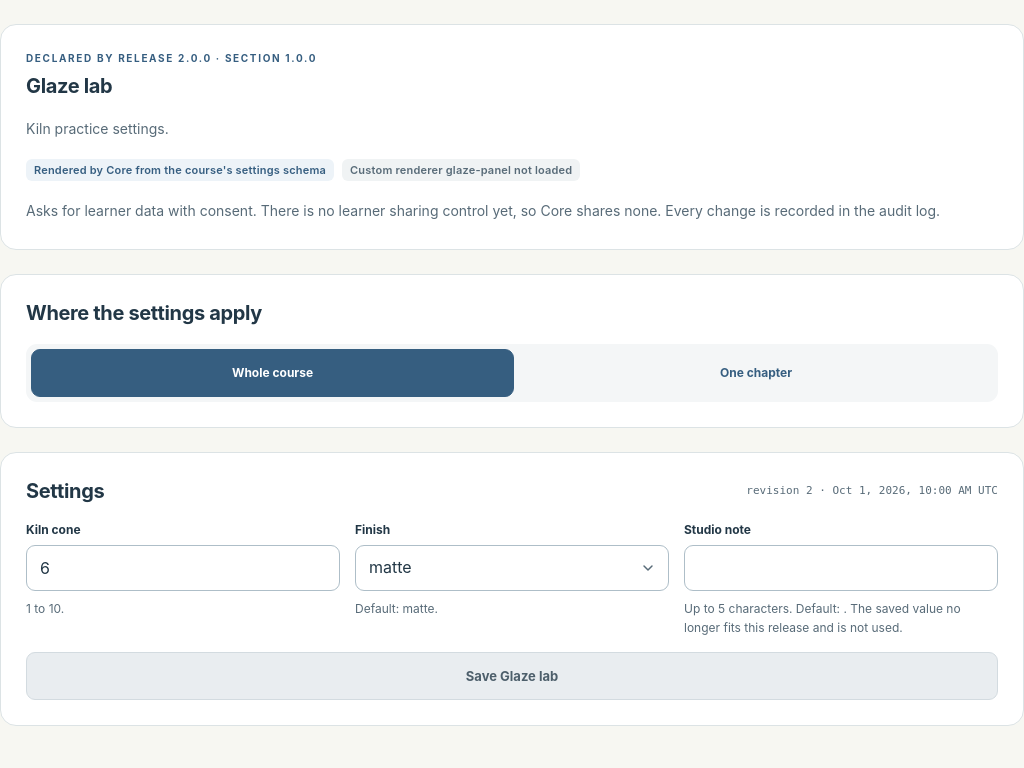
Test: course-declared admin sections › renders the schema as a form, explains what Core does not load or share, and saves only changed values
The width and height of the screenshot is (1024, 768).
Expected: the text "Kiln practice settings." is shown, x1=26 y1=120 x2=169 y2=136
Expected: the text "Custom renderer glaze-panel not loaded" is shown, x1=342 y1=159 x2=580 y2=181
Replace the text in the number field labelled "Kiln cone" with "11": (183, 568) x1=26 y1=544 x2=340 y2=590
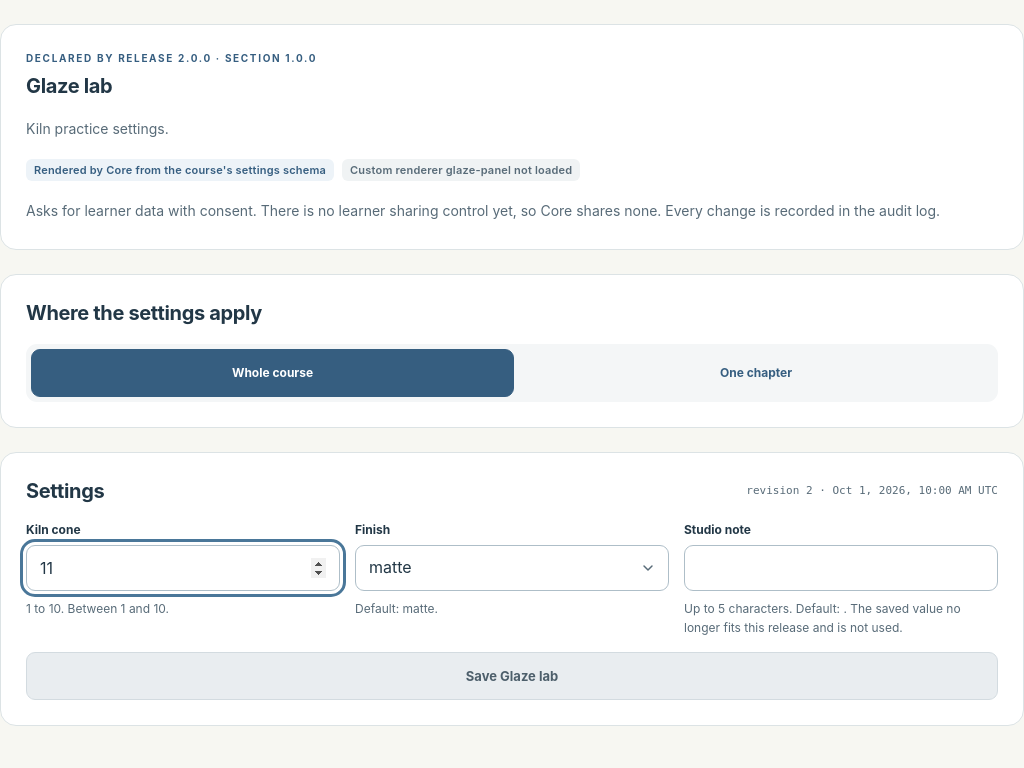
Expected: the button "Save Glaze lab" is disabled, x1=26 y1=652 x2=998 y2=700
Expected: the text "1 to 10. Between 1 and 10." is shown, x1=26 y1=600 x2=169 y2=616
Replace the text in the number field labelled "Kiln cone" with "8.5": (183, 568) x1=26 y1=544 x2=340 y2=590
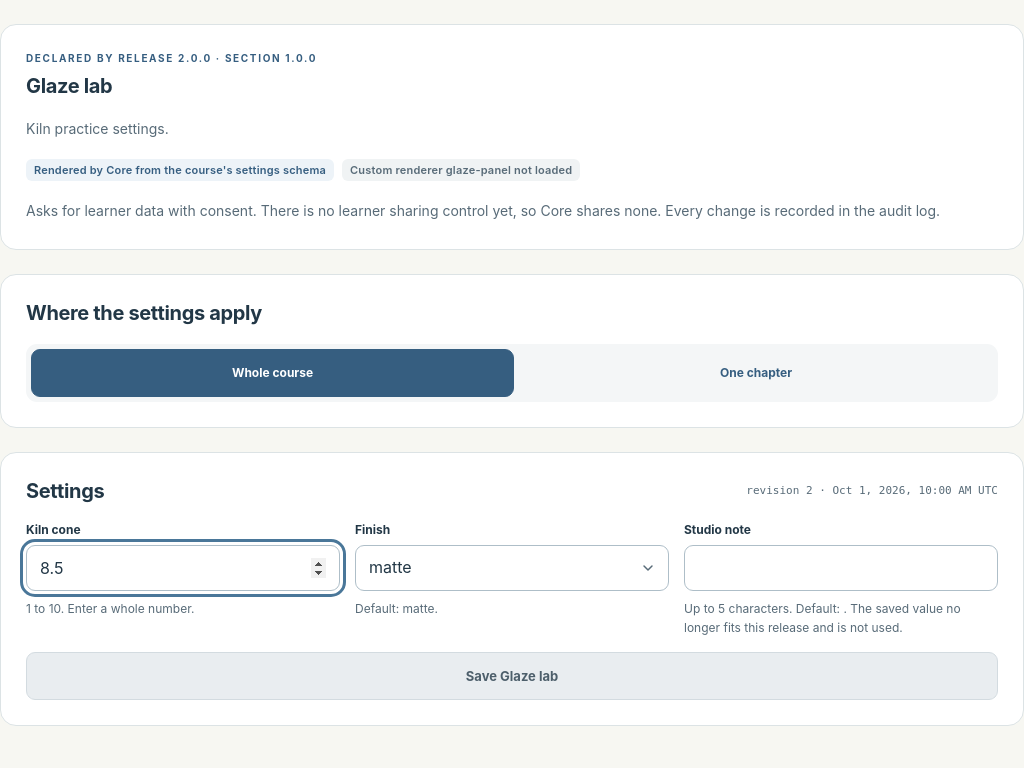
Expected: the text "1 to 10. Enter a whole number." is shown, x1=26 y1=600 x2=194 y2=616
Replace the text in the number field labelled "Kiln cone" with "8": (183, 568) x1=26 y1=544 x2=340 y2=590
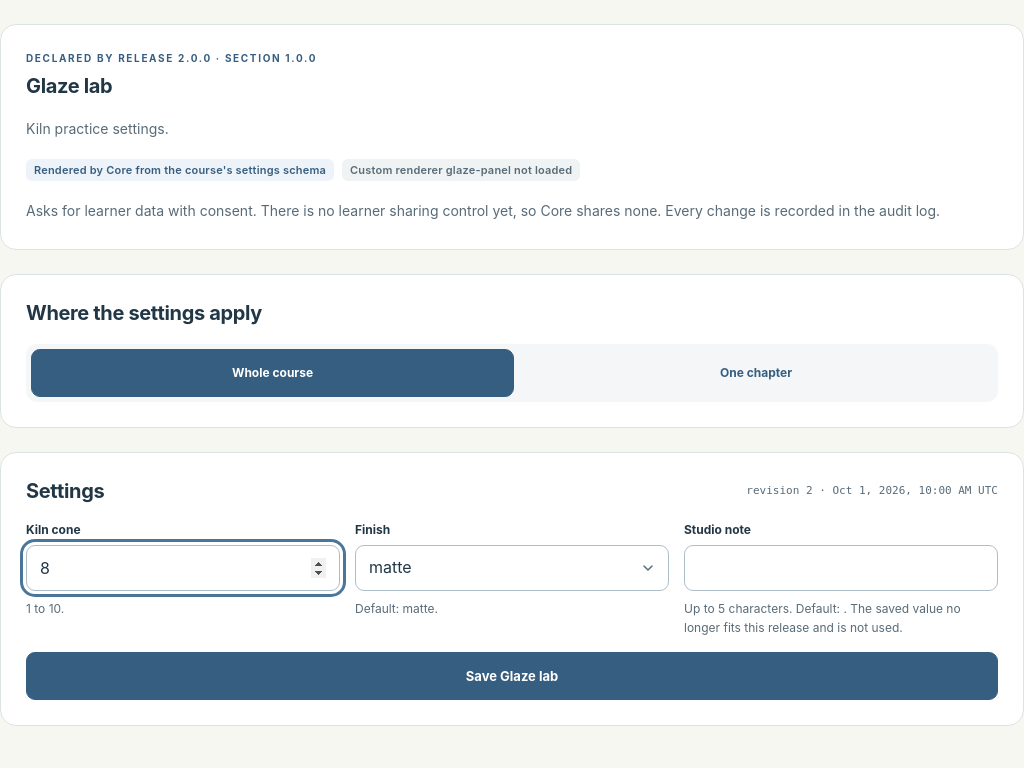
Select "gloss" in the dropdown labelled "Finish": (512, 568) x1=355 y1=544 x2=669 y2=590
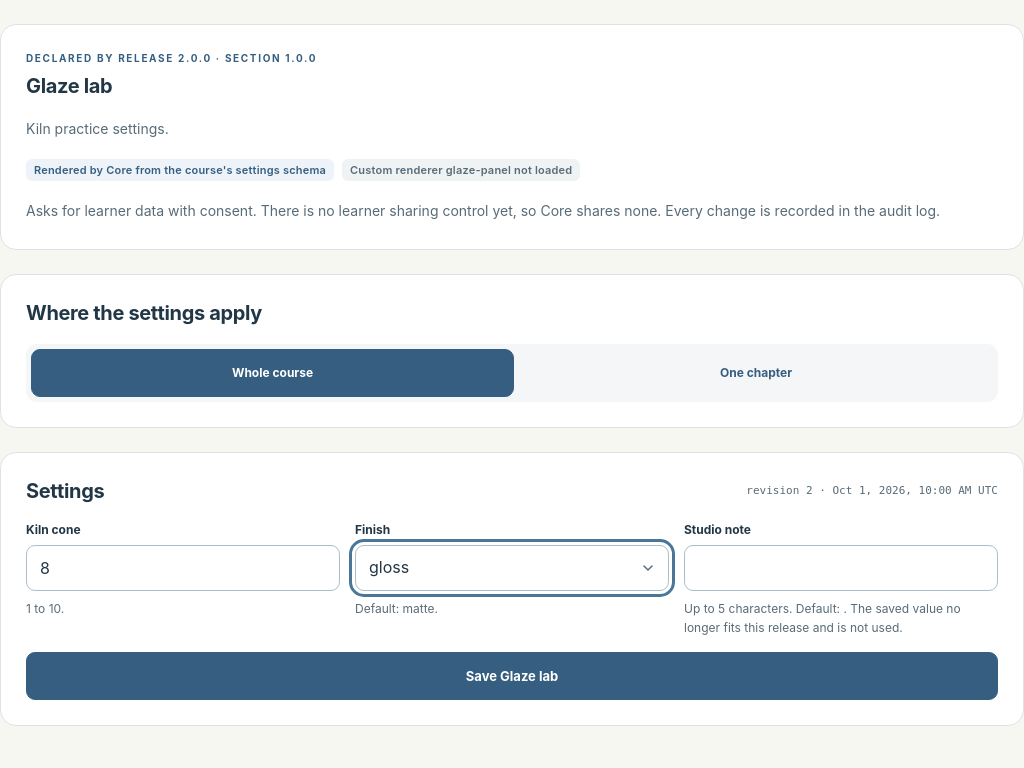
Click the button "Save Glaze lab": (512, 676) x1=26 y1=652 x2=998 y2=700
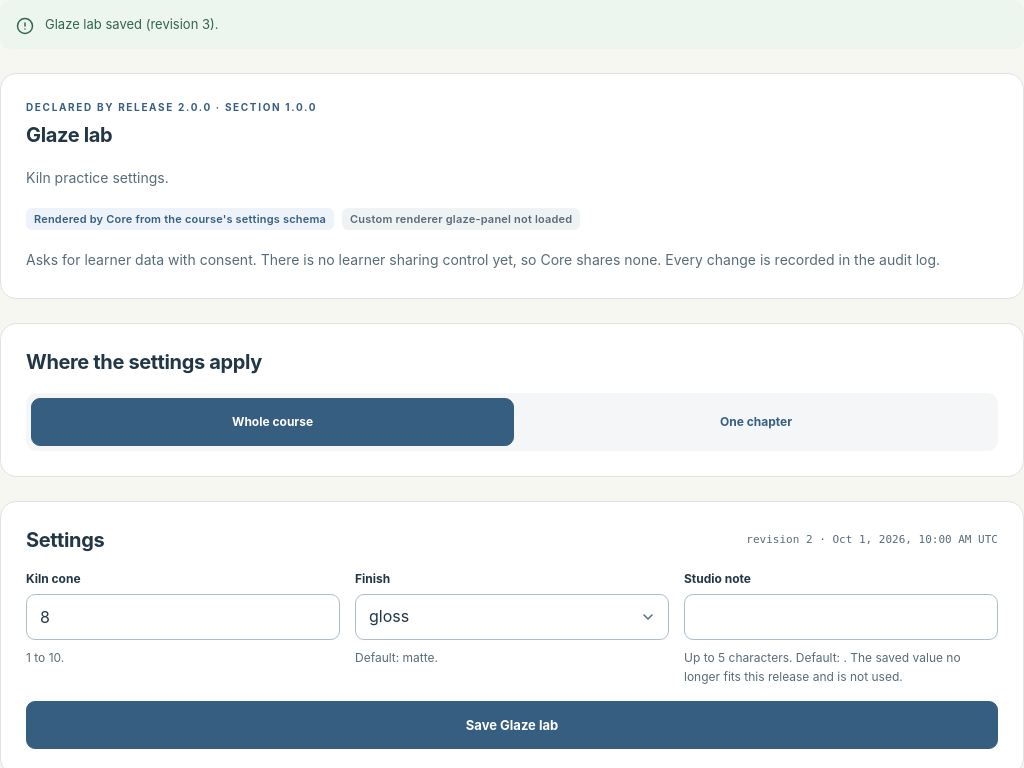
Expected: the text "Glaze lab saved (revision 3)." is shown, x1=45 y1=14 x2=218 y2=35
